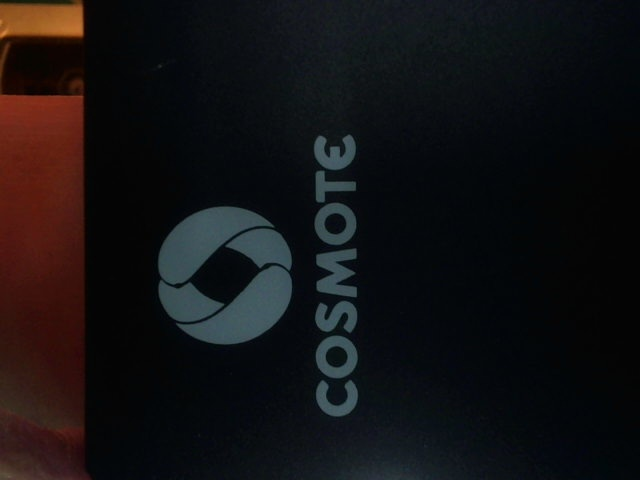AU_COSMOTE: (133, 128, 406, 420)
